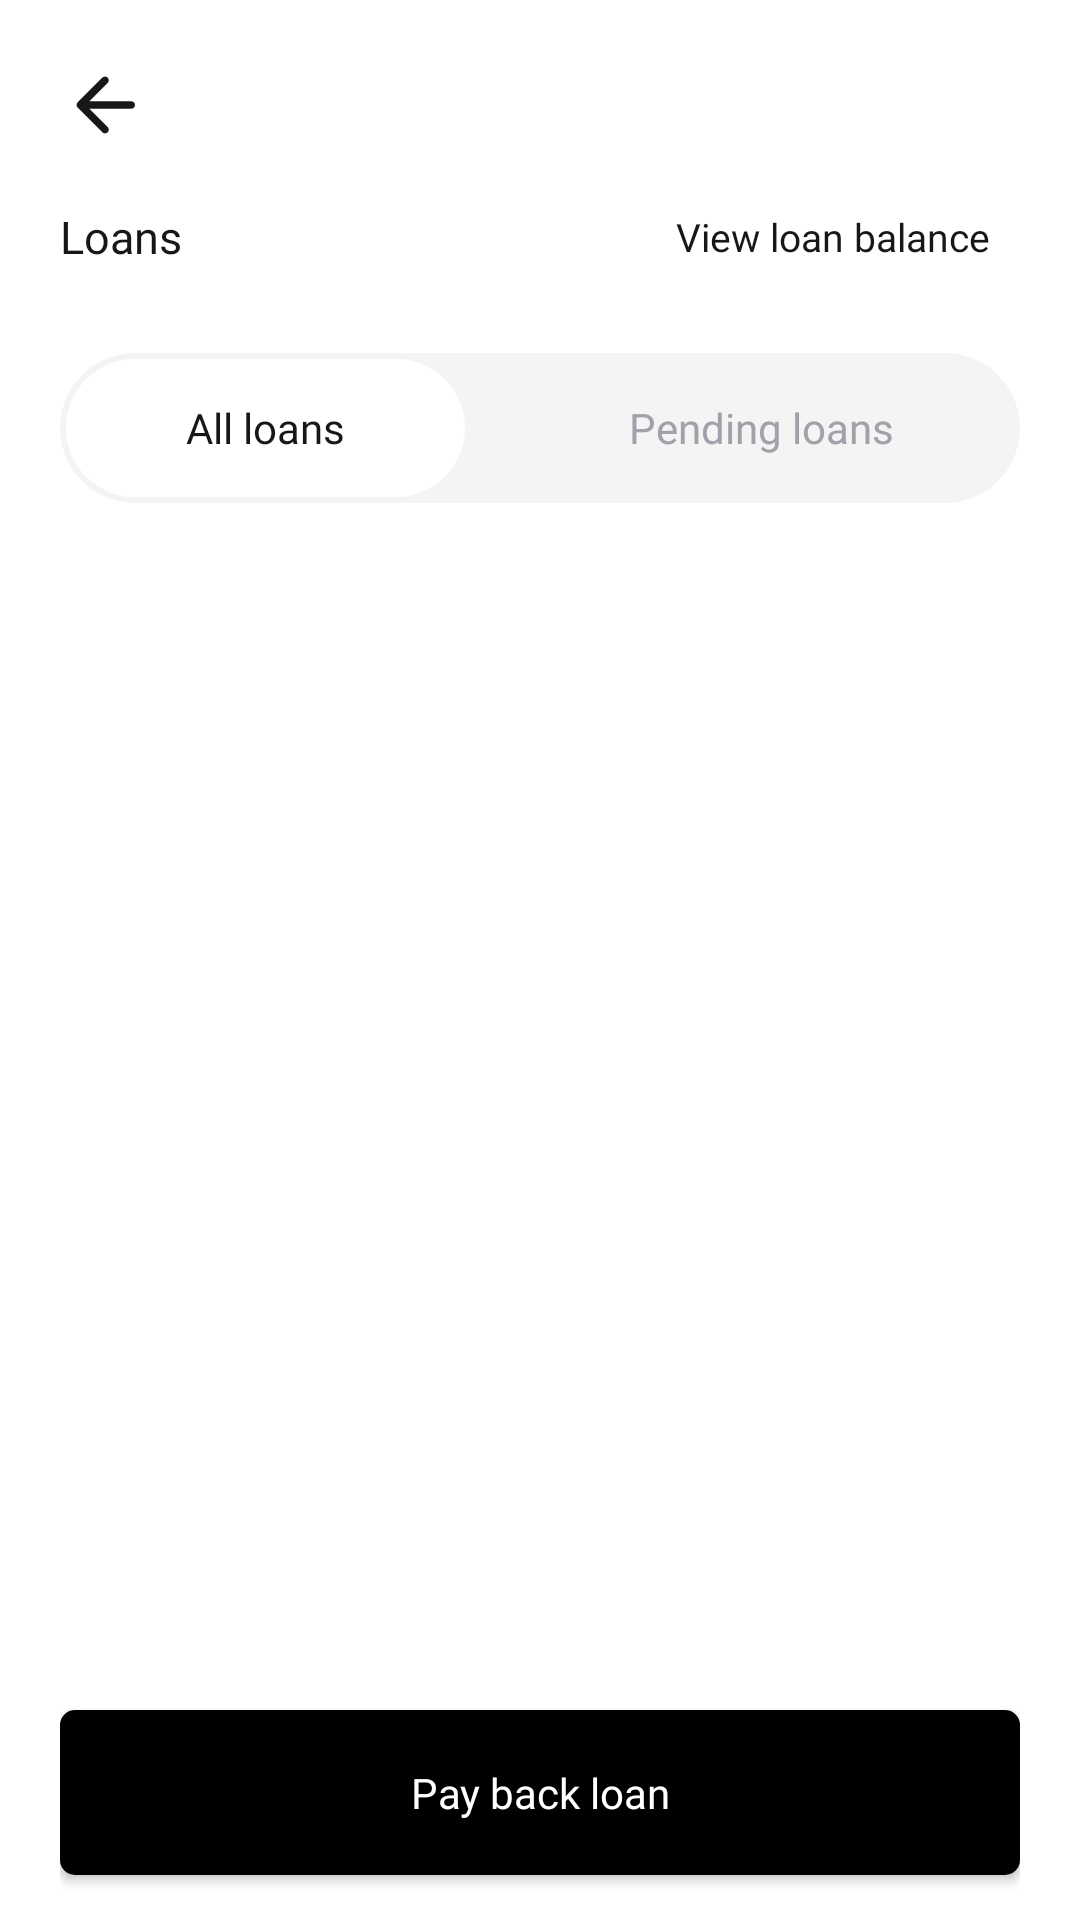

Icon bounding boxes for this 1080px x 1920px phone screenshot, format box(x1, y1, x2, y2):
arrow left: box(76, 76, 135, 134)
